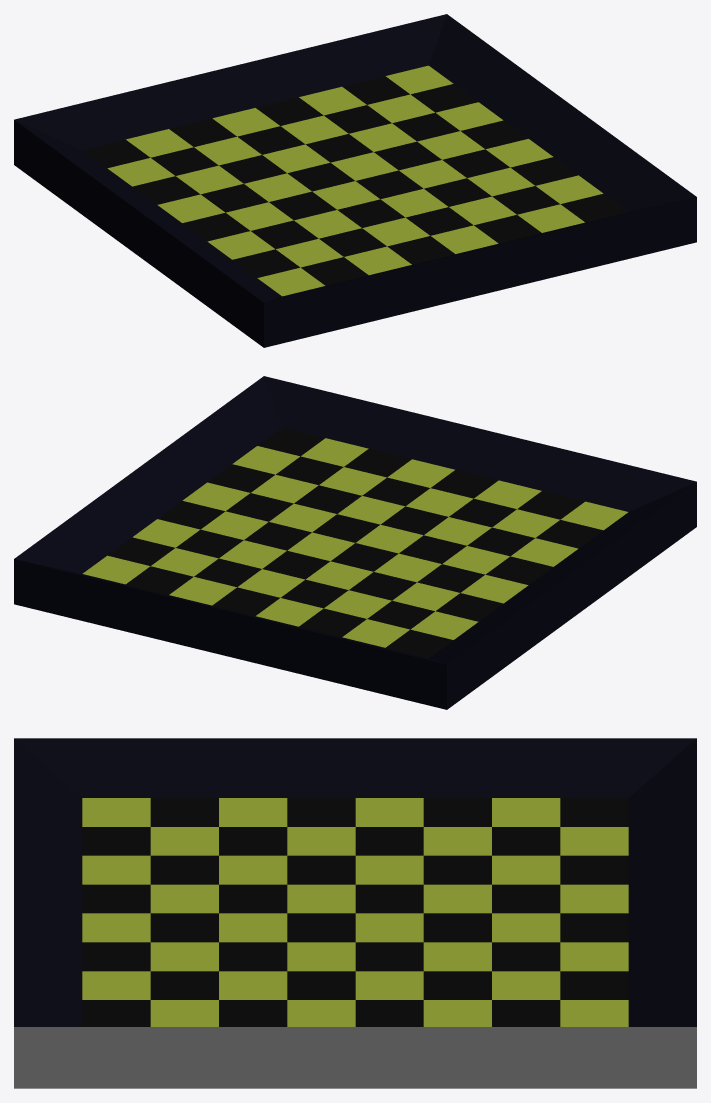
The model's file is Tabuleiro.obj.
3 views of the same model, one above another, from view 1: azimuth 30°, elevation 25°; view 2: azimuth 150°, elevation 25°; view 3: azimuth 270°, elevation 25° (orthographic). The views are drawn at different scales.
Parts seen in each view (by area): view 1: Cube.001; view 2: Cube.001; view 3: Cube.001.
Part boxes in pixels (bbox=[...]): Cube.001: bbox=[14, 14, 696, 347]; Cube.001: bbox=[14, 376, 696, 709]; Cube.001: bbox=[14, 738, 696, 1088].
Bounding box in the file's own units: 10 × 1 × 10.
